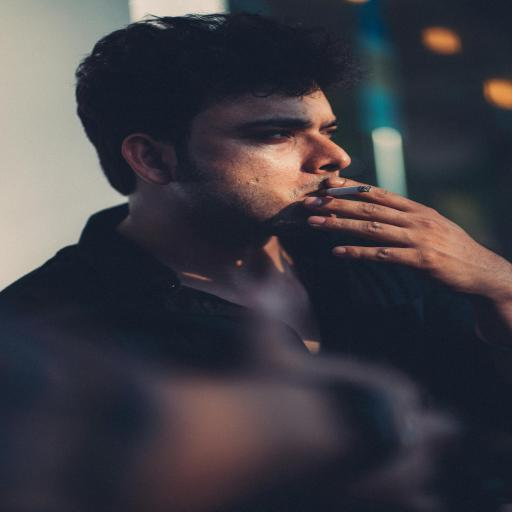terdeteksi merokok: (252, 102, 396, 244)
